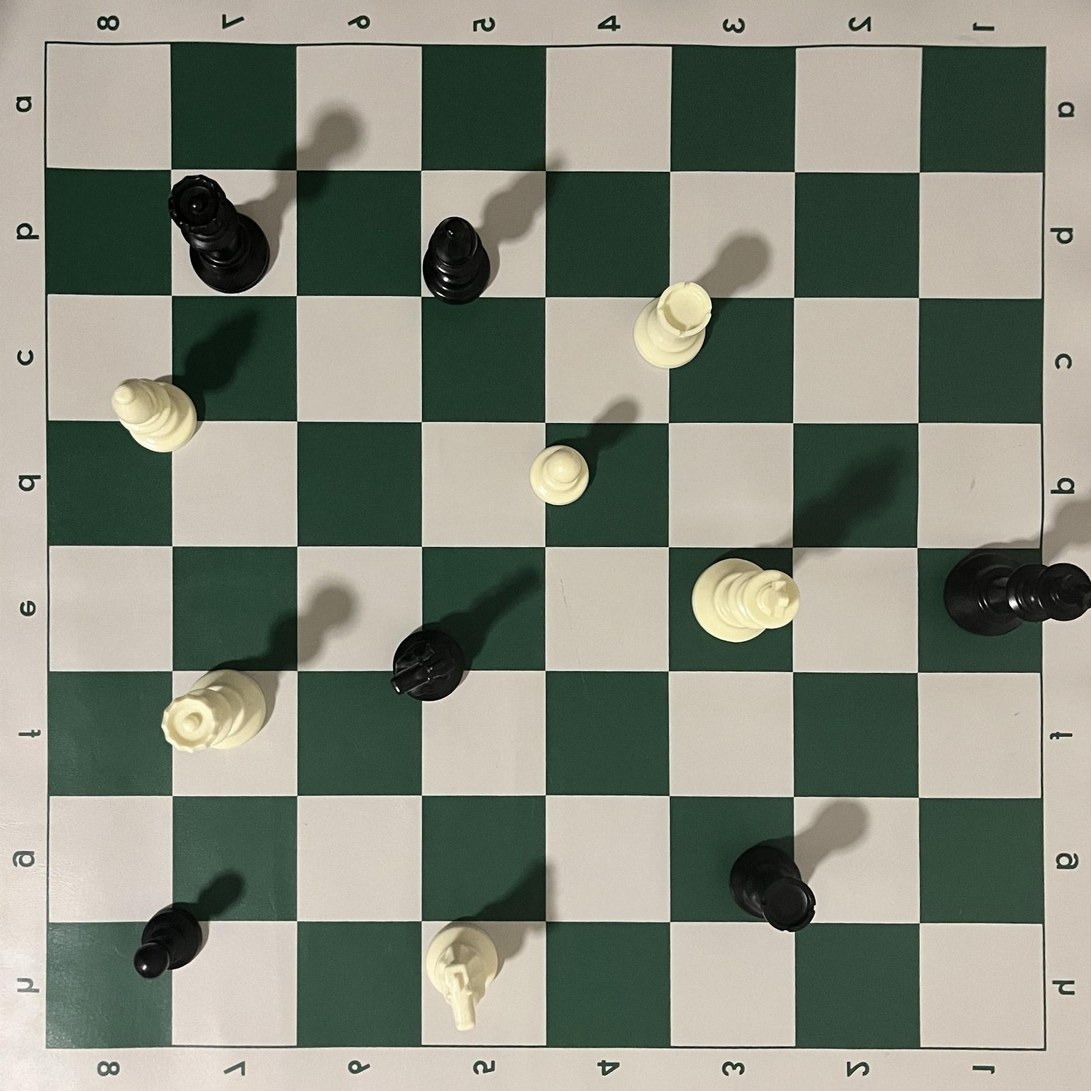black_bishop: (422, 216, 491, 305)
black_king: (942, 547, 1091, 638)
black_knight: (390, 628, 466, 702)
black_pawn: (133, 902, 204, 981)
black_queen: (168, 174, 271, 293)
black_rook: (729, 844, 819, 934)
white_bishop: (110, 378, 199, 453)
white_king: (691, 558, 802, 643)
white_knight: (425, 921, 500, 1032)
white_pawn: (529, 444, 590, 506)
white_queen: (161, 668, 269, 755)
white_rook: (633, 281, 713, 369)
